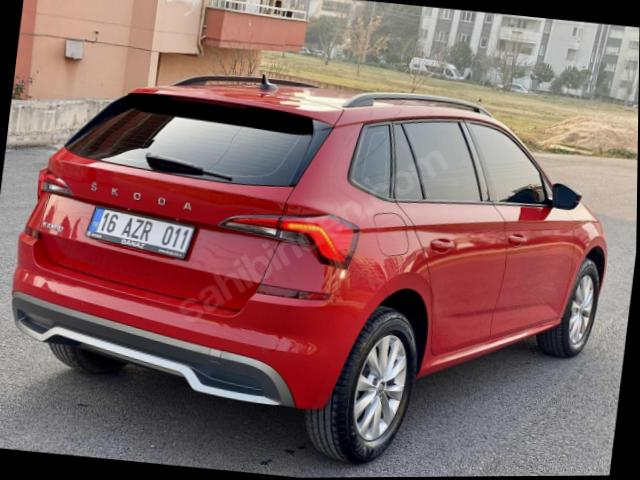plaka: (86, 207, 194, 258)
